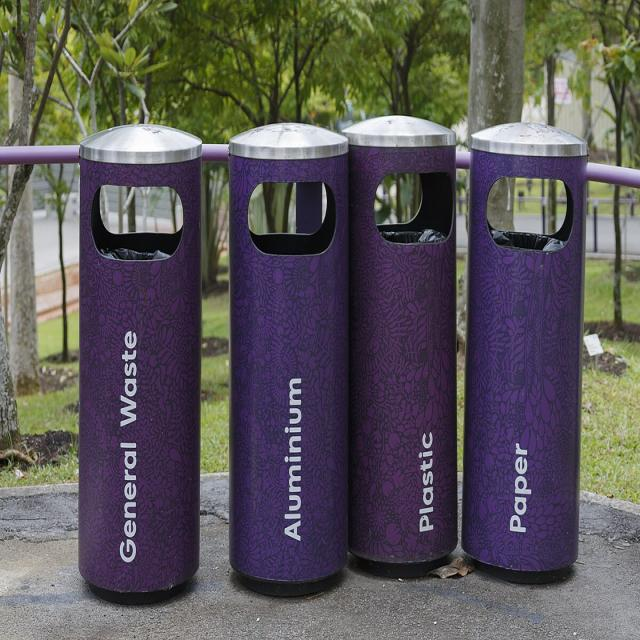bin_empty: (76, 127, 200, 602), (461, 124, 586, 579), (226, 122, 346, 593), (342, 116, 456, 576)
